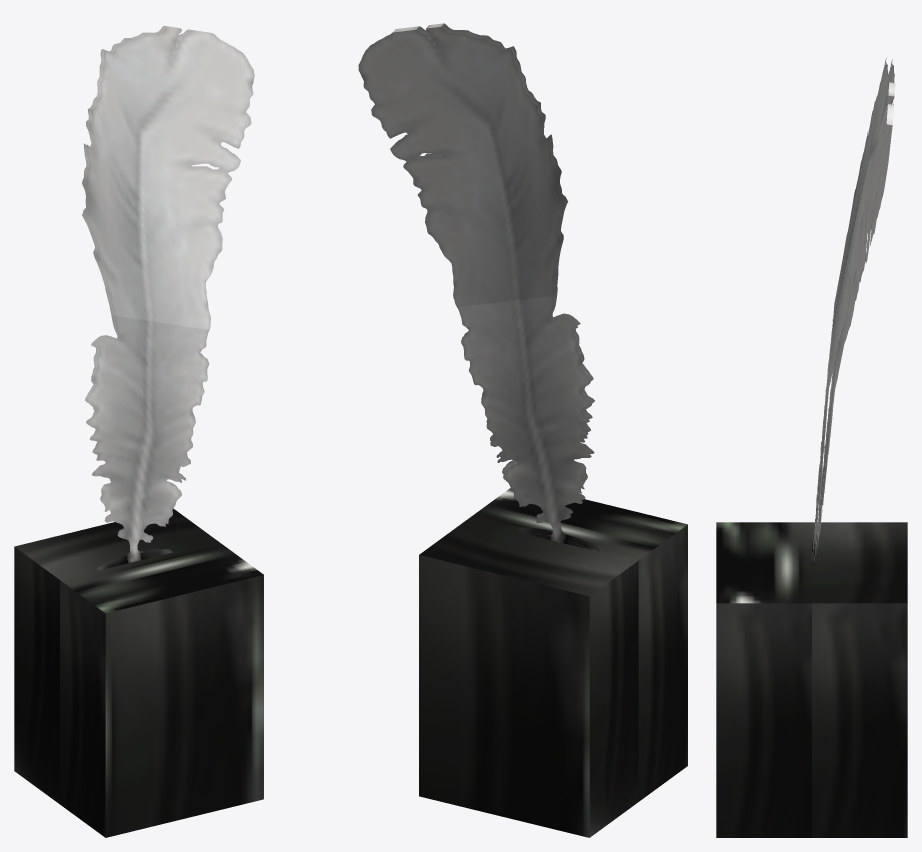
Rendered from InkFeather.fbx.
3 renders of one model, left to right at view 1: azimuth 30°, elevation 25°; view 2: azimuth 150°, elevation 25°; view 3: azimuth 270°, elevation 25°, orthographic. The views are drawn at different scales.
Visible parts, largest first — view 1: Feather; view 2: Feather; view 3: Feather.
Part boxes in pixels (x1=…): Feather: x1=14, y1=25, x2=263, y2=837; Feather: x1=358, y1=23, x2=687, y2=837; Feather: x1=716, y1=58, x2=907, y2=837.
Bounding box in the file's own units: 50.8 × 138 × 30.66.
